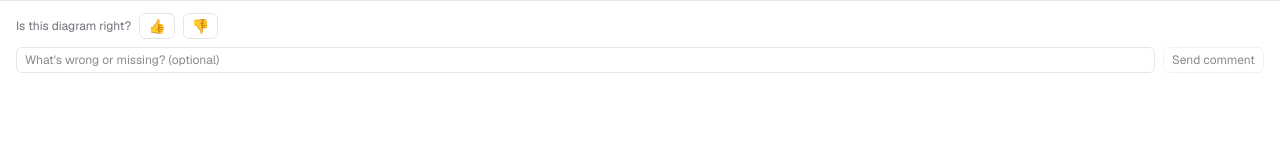
Test case: RateDiagram › shows the error and reverts to the last confirmed rating when saving fails
Click the button named "Rate helpful" at (157, 26), box [139,13,175,39]
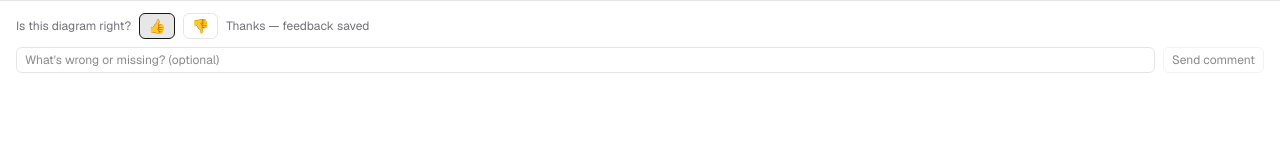
Expected: the text "Thanks — feedback saved" is shown, [226,18,369,34]
Click the button named "Rate not helpful" at (200, 26), box [183,13,218,39]
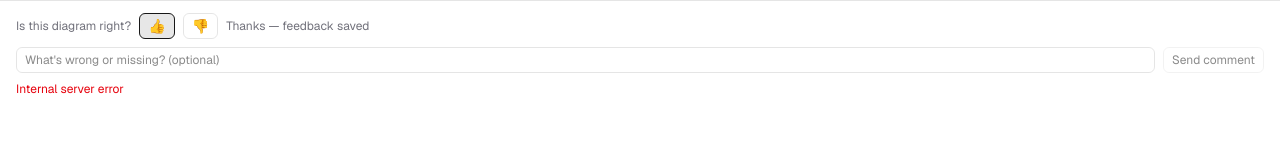
Expected: the message "Internal server error" is shown, [16,81,124,97]
